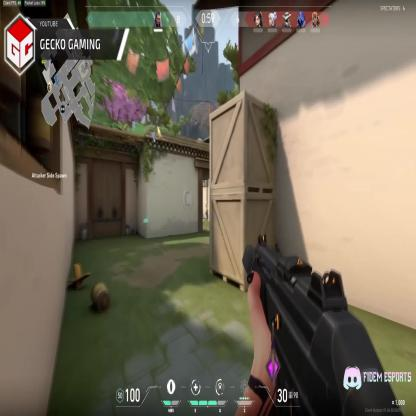enemy: (206, 202, 209, 218)
enemy_head: (206, 202, 207, 206)
